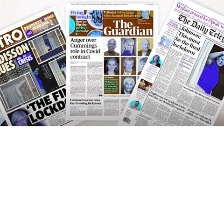news_paper: (115, 0, 224, 125), (63, 2, 158, 122), (0, 3, 91, 127)
